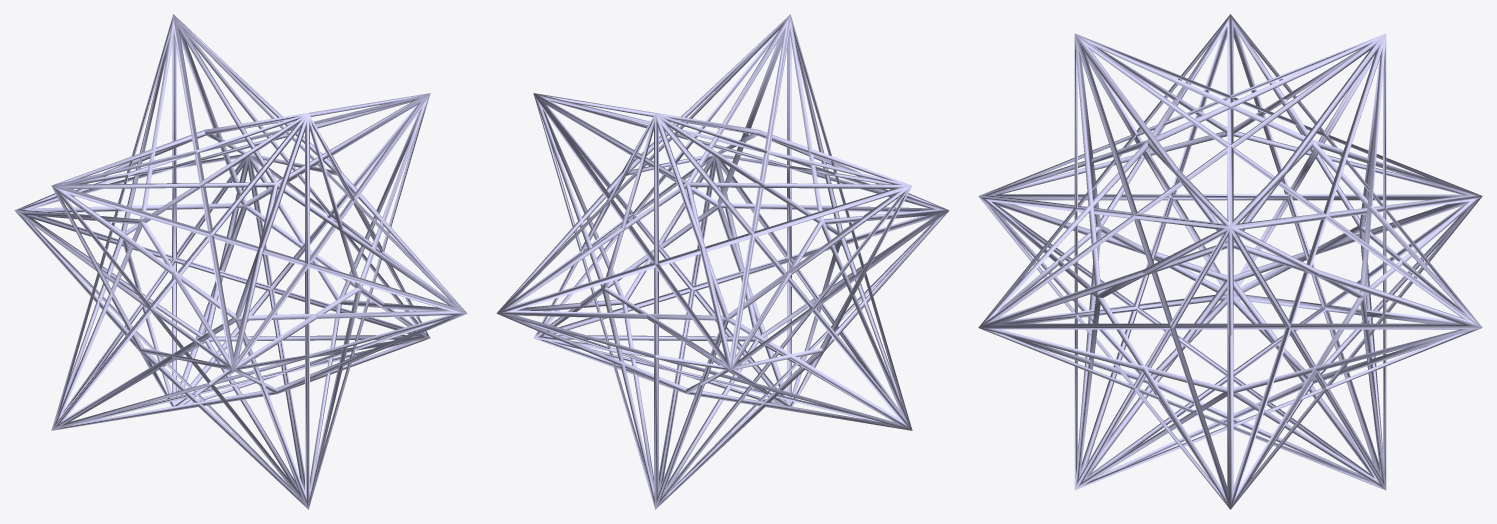
Rendered from SmallStellapentakisDodecahedron1.glb.
The picture shows the model from 3 angles, left to right: view 1: azimuth 30°, elevation 25°; view 2: azimuth 150°, elevation 25°; view 3: azimuth 270°, elevation 25°; orthographic projection. The views are drawn at different scales.
Visible parts, largest first — view 1: SmallStellapentakisDodecahedron; view 2: SmallStellapentakisDodecahedron; view 3: SmallStellapentakisDodecahedron.
Part boxes in pixels (x1,y1,x2,y2): SmallStellapentakisDodecahedron: (14, 14, 467, 509); SmallStellapentakisDodecahedron: (496, 14, 949, 509); SmallStellapentakisDodecahedron: (978, 14, 1482, 509).
Bounding box in the file's own units: 5.92 × 5.92 × 5.92.
